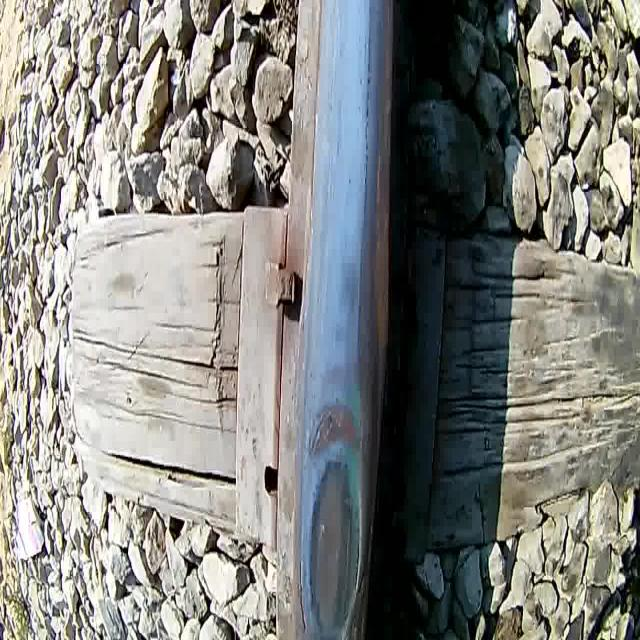Cracks: (352, 514, 373, 632), (296, 553, 309, 640)
Squats: (294, 454, 372, 640), (303, 391, 373, 473)
